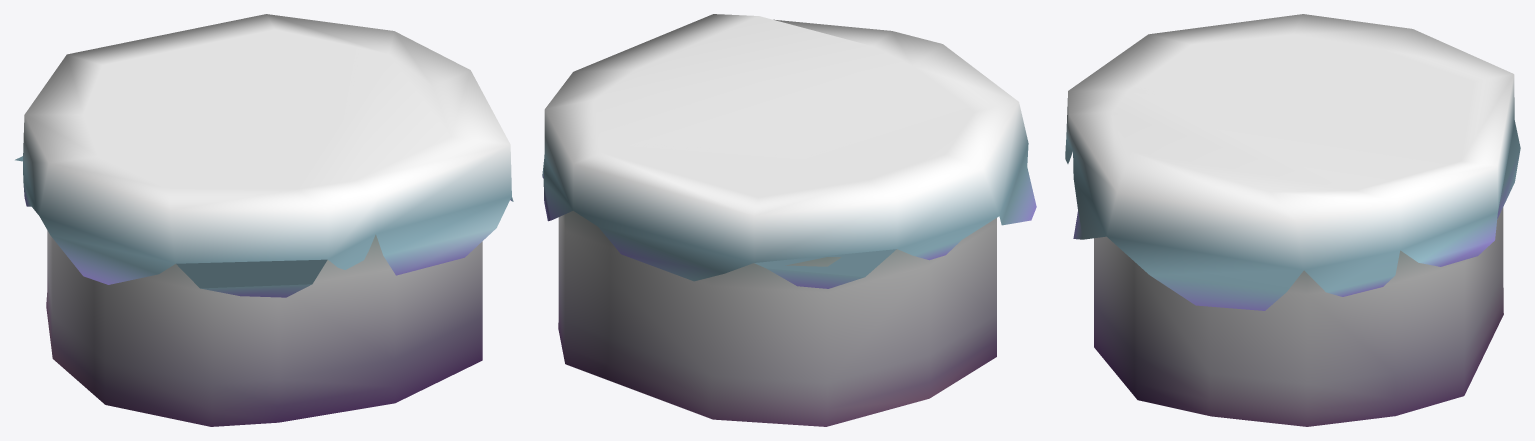
Rendered from Block_03_H1_grass.fbx.
The picture shows the model from 3 angles, left to right: view 1: azimuth 30°, elevation 25°; view 2: azimuth 150°, elevation 25°; view 3: azimuth 270°, elevation 25°; orthographic projection.
Visible parts, largest first — view 1: Rock-Base-col.006, Rock-Base-col.005; view 2: Rock-Base-col.006, Rock-Base-col.005; view 3: Rock-Base-col.006, Rock-Base-col.005.
Boxes of the visible parts, bbox=[...] form: Rock-Base-col.006: bbox=[15, 14, 513, 297]; Rock-Base-col.005: bbox=[46, 230, 482, 426]; Rock-Base-col.006: bbox=[542, 14, 1036, 288]; Rock-Base-col.005: bbox=[558, 211, 996, 426]; Rock-Base-col.006: bbox=[1065, 14, 1520, 310]; Rock-Base-col.005: bbox=[1094, 207, 1503, 426].
Bounding box in the file's own units: 226 × 116 × 207.
